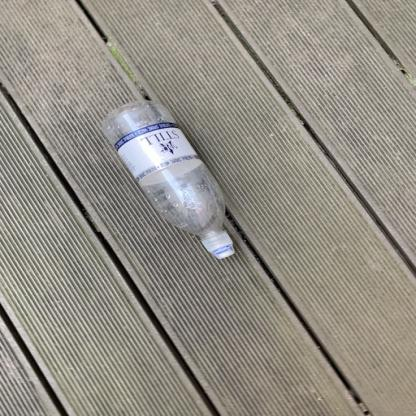trash: (102, 100, 243, 261)
